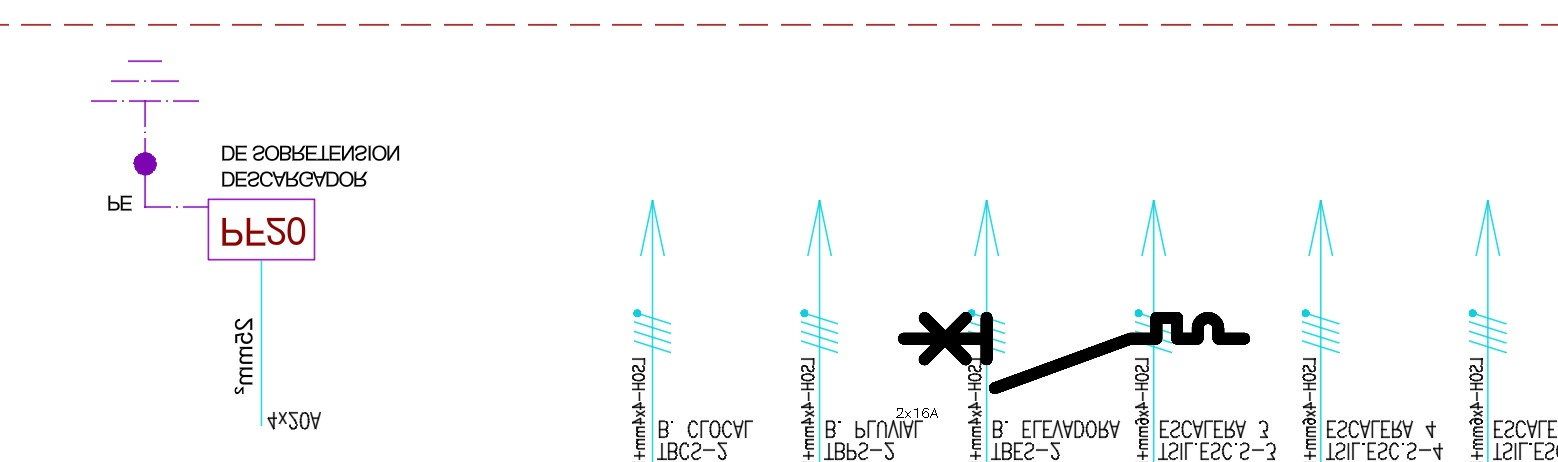interruptor_termomagnetico: (895, 309, 1253, 396)
